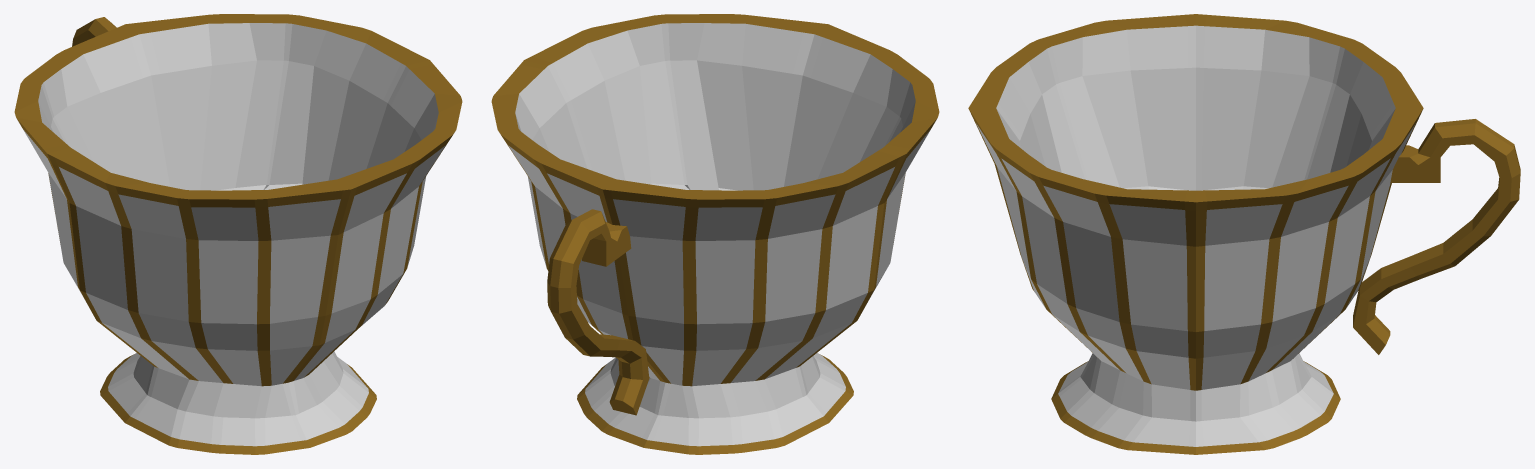
File: teacup.obj
The picture shows the model from 3 angles, left to right: view 1: azimuth 30°, elevation 25°; view 2: azimuth 150°, elevation 25°; view 3: azimuth 270°, elevation 25°; orthographic projection.
Parts seen in each view (by area): view 1: Cube.001_Cube.002, Cube.002_Cube.003; view 2: Cube.001_Cube.002, Cube.002_Cube.003; view 3: Cube.001_Cube.002, Cube.002_Cube.003.
Part boxes in pixels (left/top/right/bottom): Cube.001_Cube.002: left=14, top=14, right=462, bottom=454; Cube.002_Cube.003: left=72, top=17, right=116, bottom=46; Cube.001_Cube.002: left=491, top=14, right=939, bottom=454; Cube.002_Cube.003: left=547, top=209, right=649, bottom=415; Cube.001_Cube.002: left=968, top=14, right=1423, bottom=454; Cube.002_Cube.003: left=1353, top=119, right=1520, bottom=354.
Bounding box in the file's own units: 0.3845 × 0.2769 × 0.4765.
